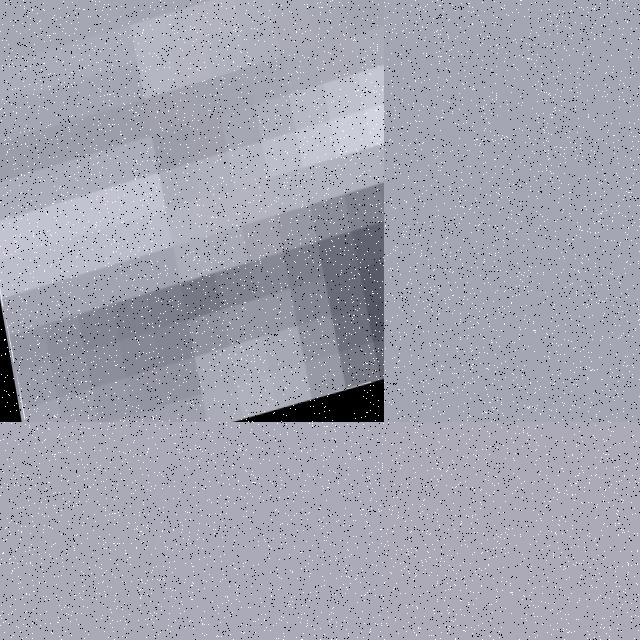drone: (0, 0, 384, 422)
